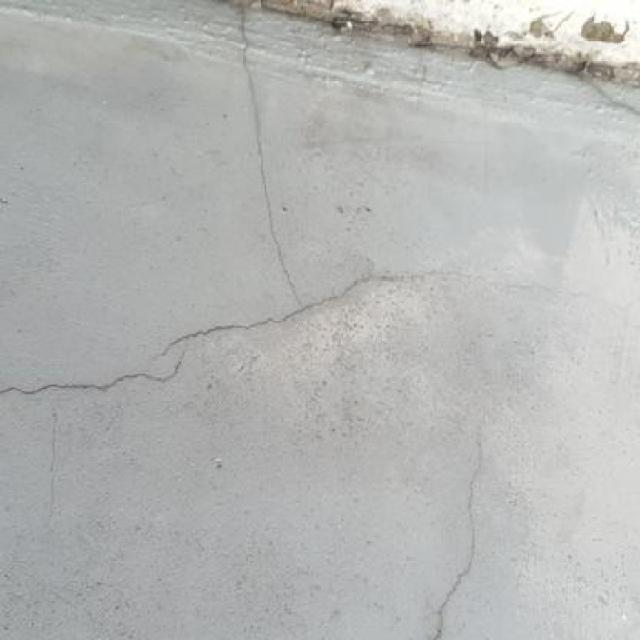GRIETA: (239, 5, 301, 305), (167, 281, 359, 351), (428, 425, 483, 639), (0, 353, 183, 395)
